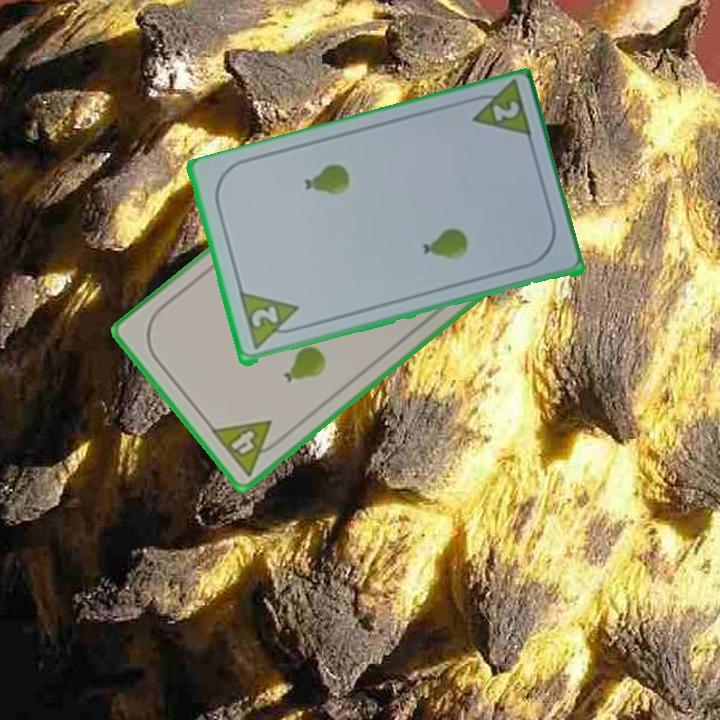2p: (247, 303, 281, 331), (488, 97, 522, 125)
4p: (207, 416, 288, 479)
